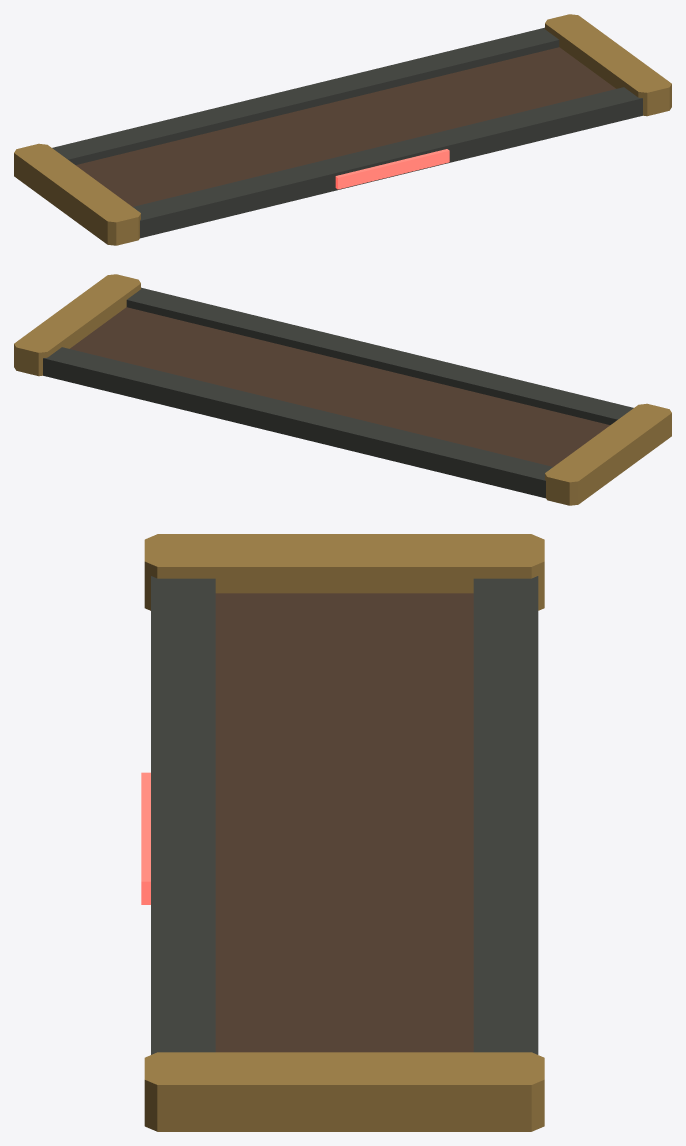
Rendered from b1_grate_red.glb.
3 renders of one model, top to bottom at view 1: azimuth 30°, elevation 25°; view 2: azimuth 150°, elevation 25°; view 3: azimuth 270°, elevation 25°, orthographic. The views are drawn at different scales.
Parts seen in each view (by area): view 1: b1_grate_red; view 2: b1_grate_red; view 3: b1_grate_red.
Boxes of the visible parts, <box> form: b1_grate_red: <box>14,14,671,245</box>; b1_grate_red: <box>14,274,671,505</box>; b1_grate_red: <box>141,534,544,1131</box>.
Size of the model in its own units: 2.02 by 0.08 by 0.625.
